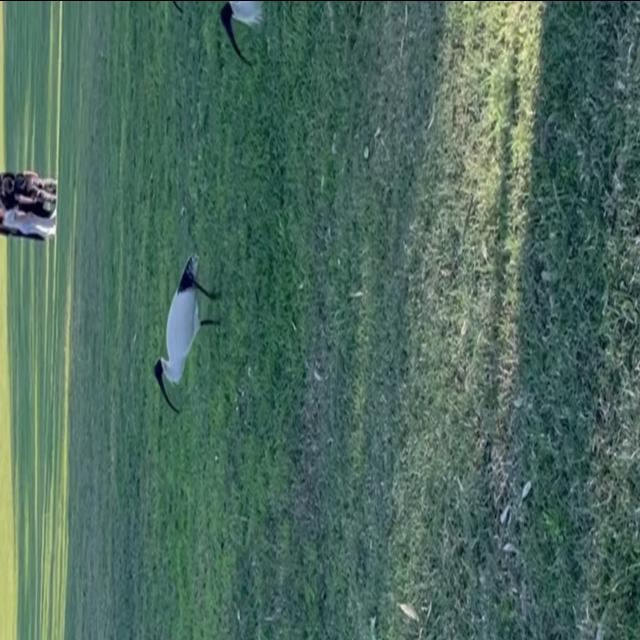Birds-Ibis: (150, 254, 227, 416), (217, 0, 270, 69)
